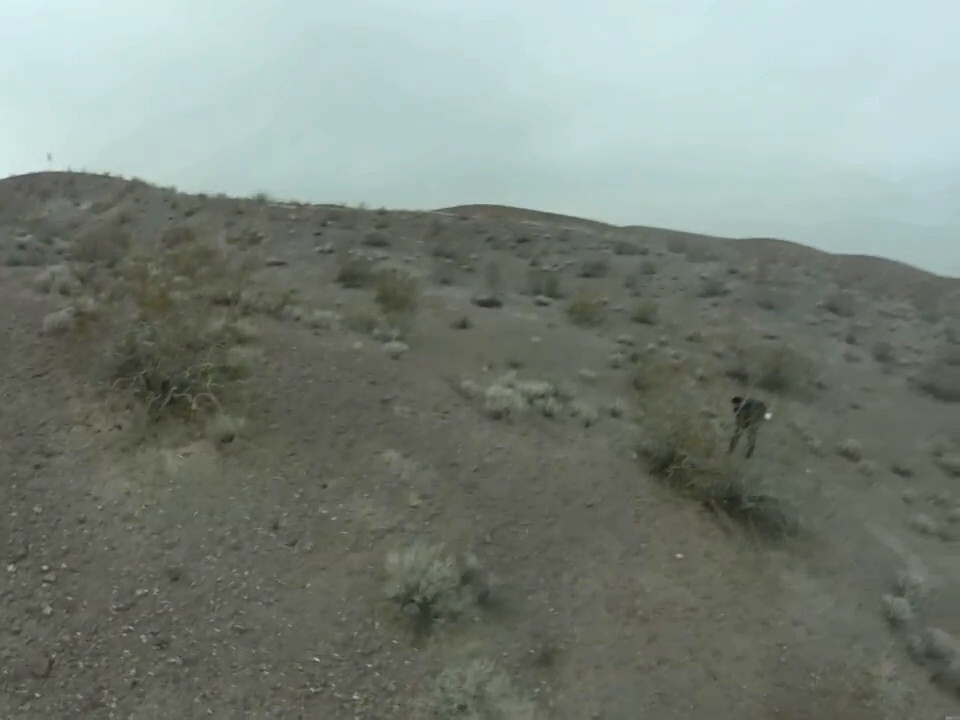insan: (726, 395, 770, 463)
